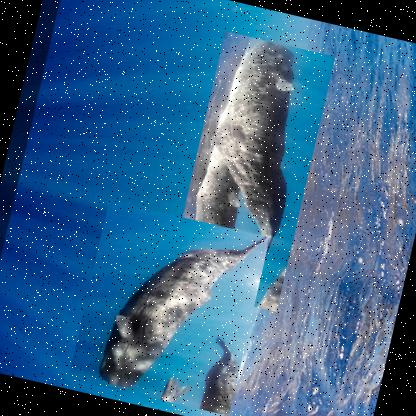sperm_whale: (166, 29, 336, 311), (67, 198, 270, 415)
